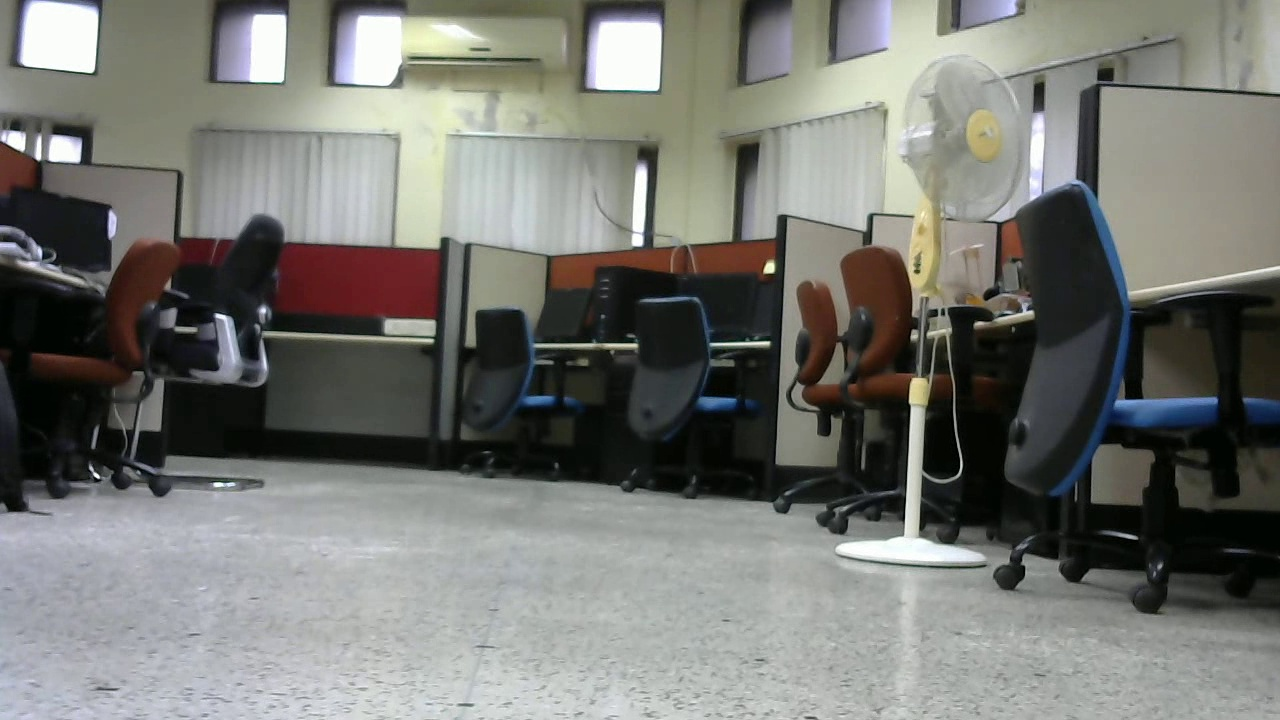chair: (992, 179, 1280, 615), (833, 247, 1001, 535), (26, 245, 158, 500), (171, 213, 292, 491), (615, 292, 763, 505), (770, 277, 901, 513), (452, 308, 598, 485)
